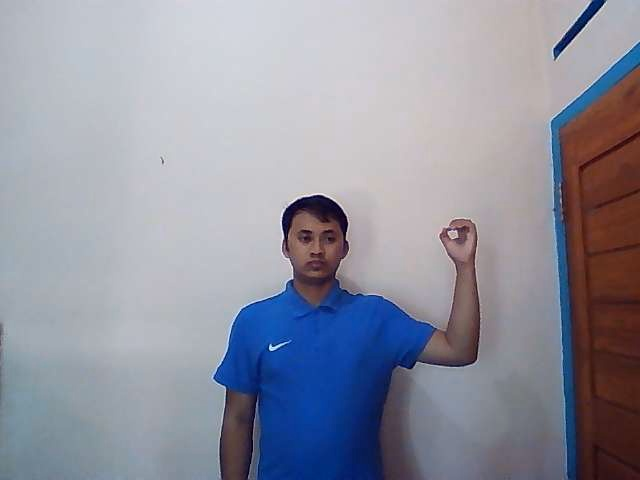O: (437, 215, 480, 263)
